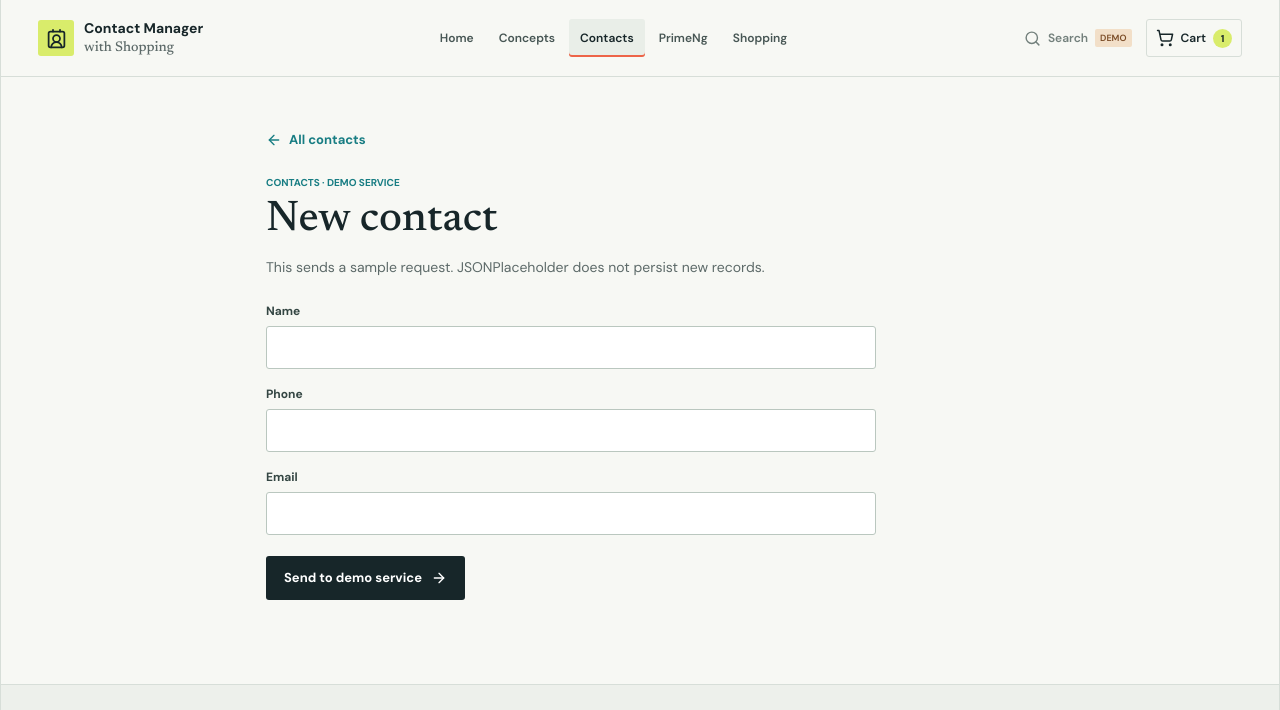
application routes and shared flows › submits a valid contact and labels the response as demo-only
This screenshot has width=1280, height=710.
In the field labelled "Name": (571, 347) top-left (266, 326), bottom-right (876, 369), type "Ada Lovelace"
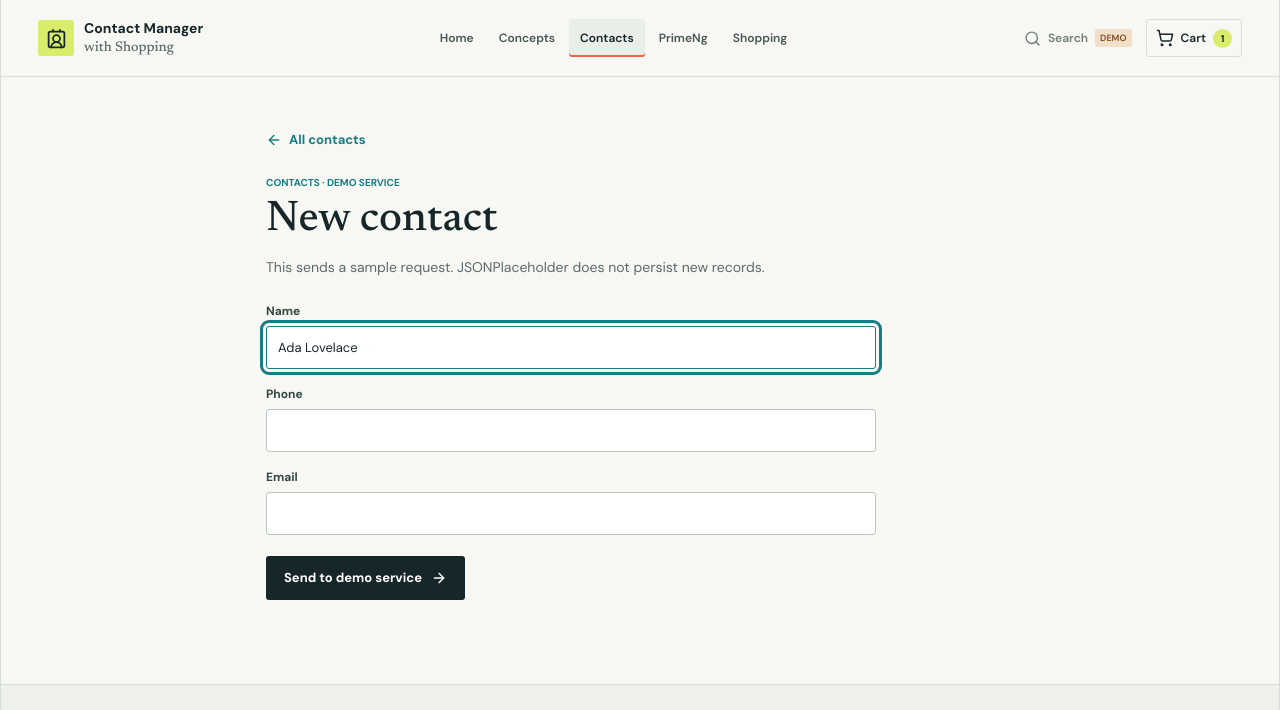
In the field labelled "Phone": (571, 430) top-left (266, 409), bottom-right (876, 452), type "555-0107"
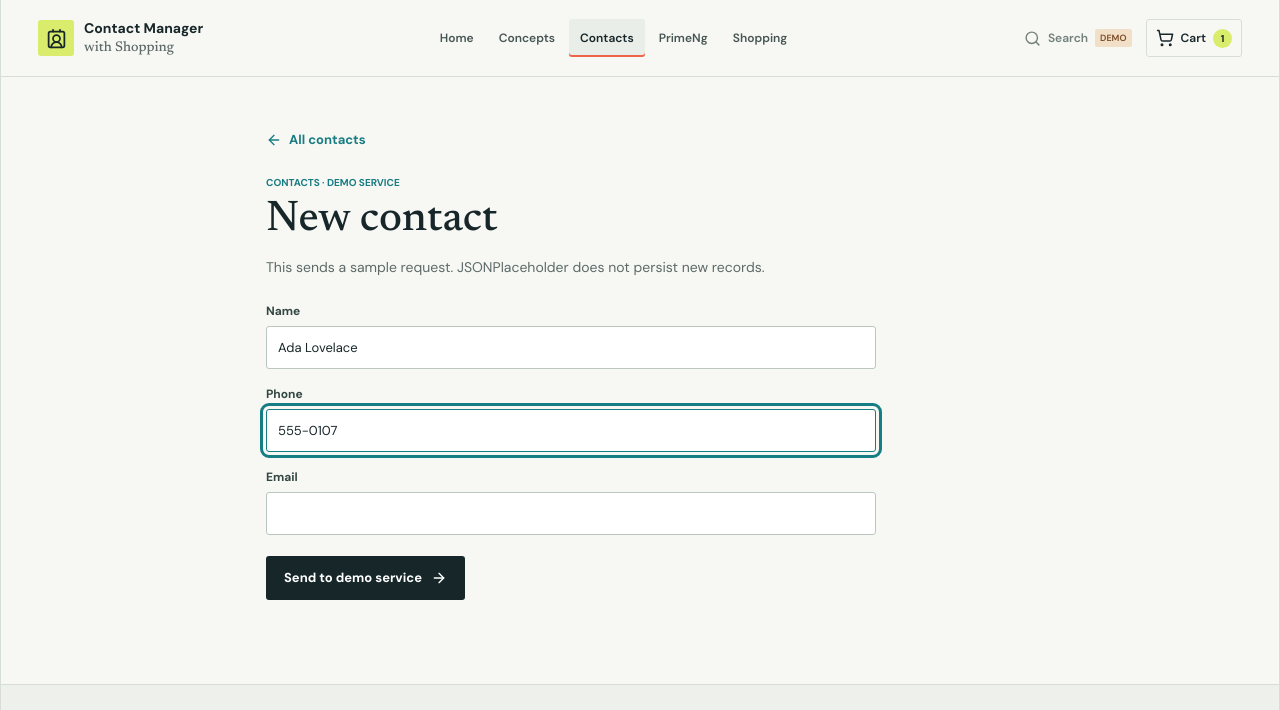
In the field labelled "Email": (571, 513) top-left (266, 492), bottom-right (876, 535), type "ada@example.test"
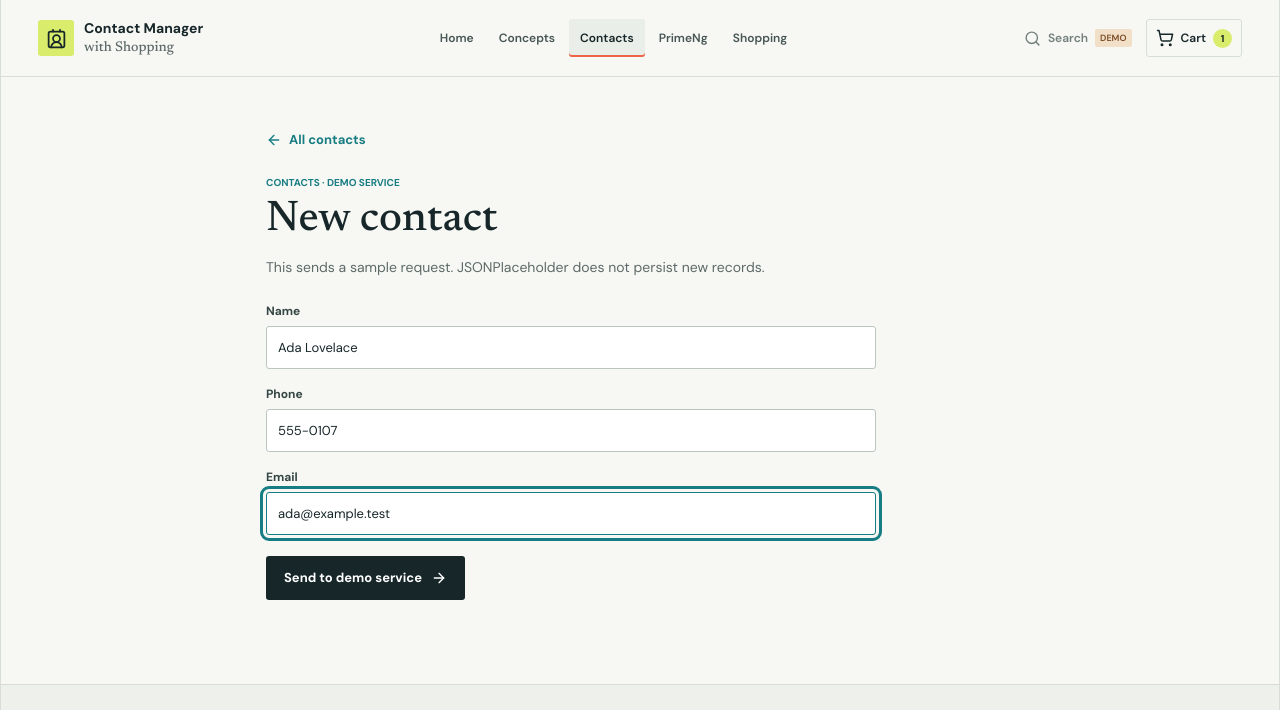
Click the button "Send to demo service": (366, 578) top-left (266, 556), bottom-right (465, 600)
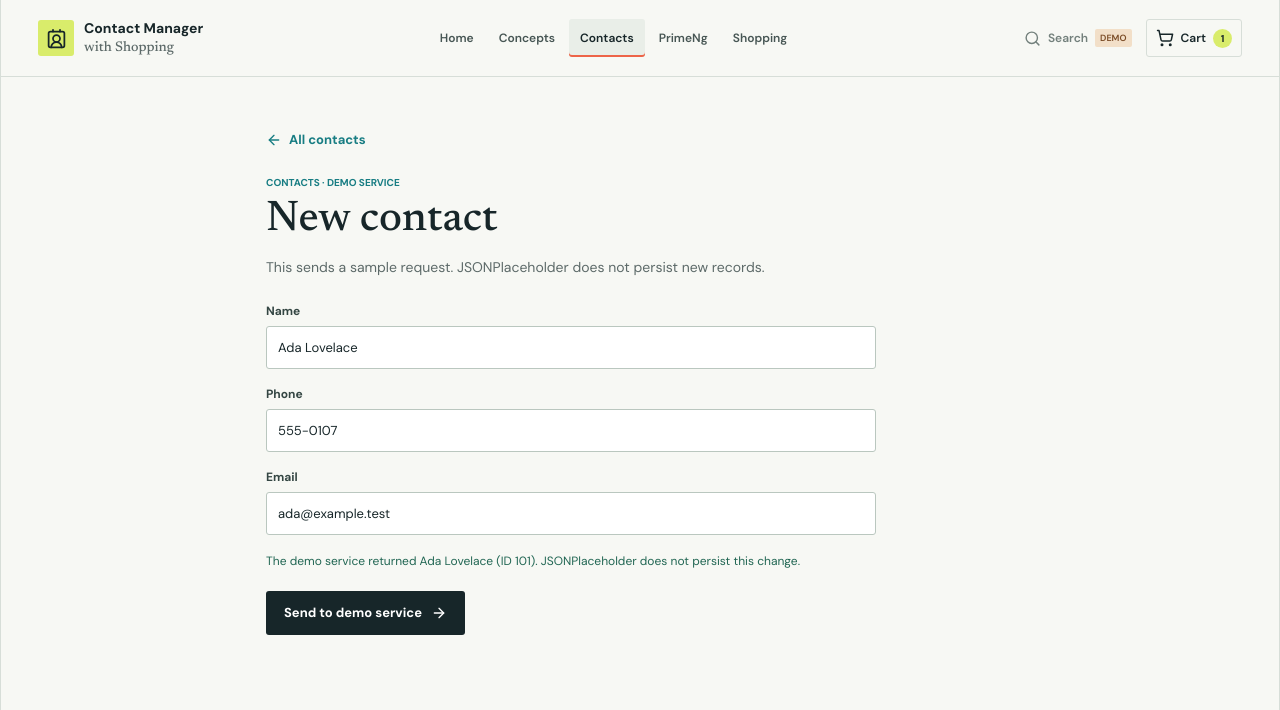
Check: the message shows "JSONPlaceholder does not persist this change", box top-left (266, 553), bottom-right (800, 569)
